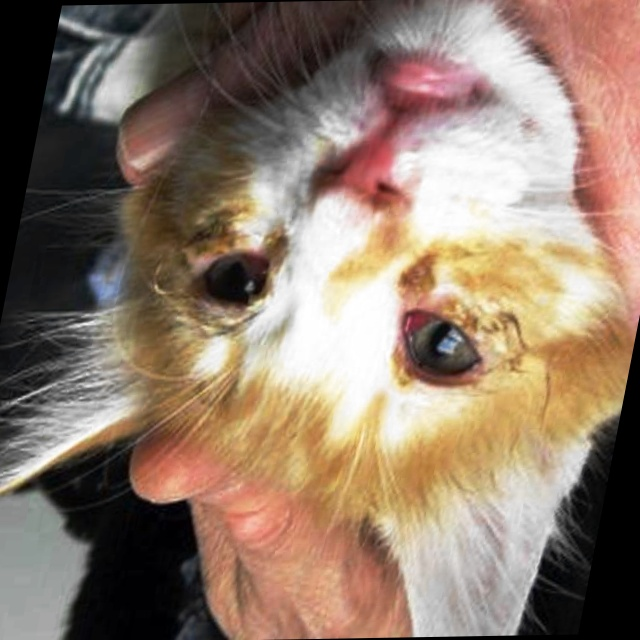eye_infection: (389, 293, 502, 385), (188, 244, 278, 313)
